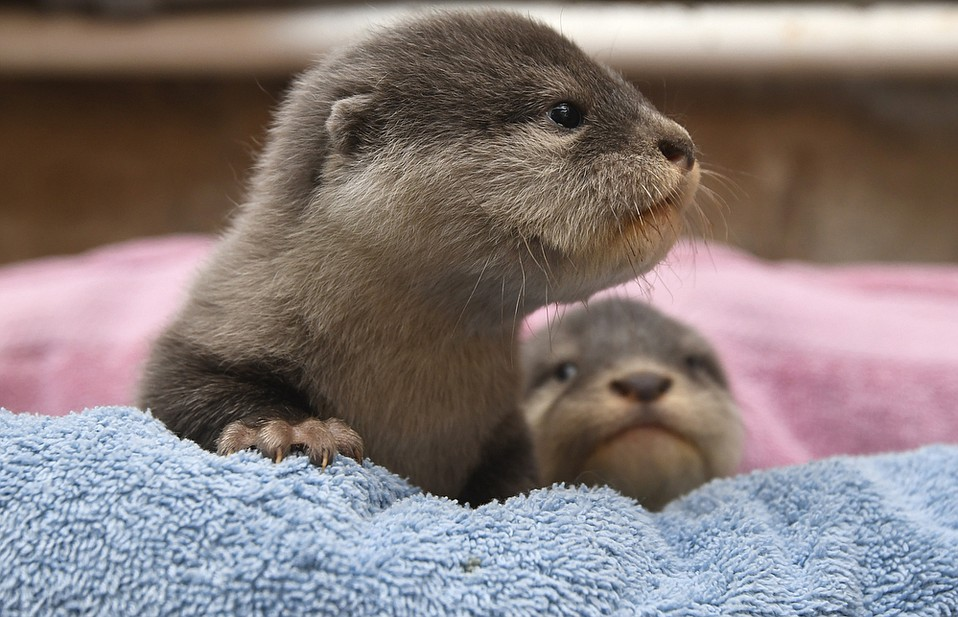otter: (138, 3, 738, 475)
